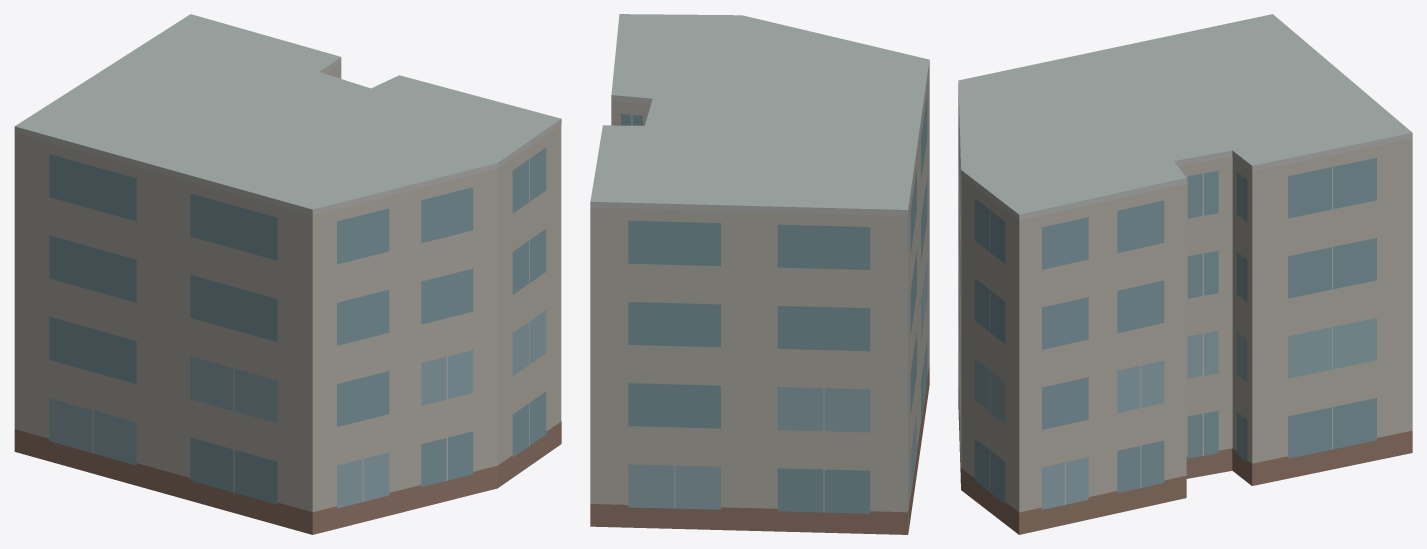
File: survey-upis-32780521.glb
The picture shows the model from 3 angles, left to right: view 1: azimuth 30°, elevation 25°; view 2: azimuth 150°, elevation 25°; view 3: azimuth 270°, elevation 25°; orthographic projection.
Parts seen in each view (by area): view 1: survey-upis-32780521.tmp; view 2: survey-upis-32780521.tmp; view 3: survey-upis-32780521.tmp.
Part boxes in pixels (x1,y1,x2,y2): survey-upis-32780521.tmp: (14, 14, 561, 534); survey-upis-32780521.tmp: (590, 14, 929, 534); survey-upis-32780521.tmp: (958, 14, 1412, 534).
Size of the model in its own units: 17.76 by 13.2 by 16.99.
